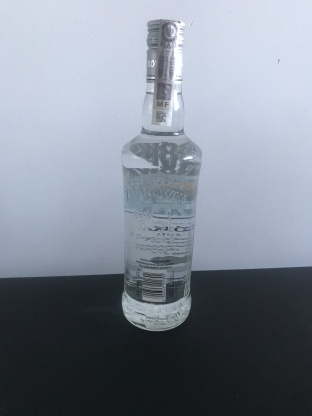nakretka: (143, 15, 186, 87)
